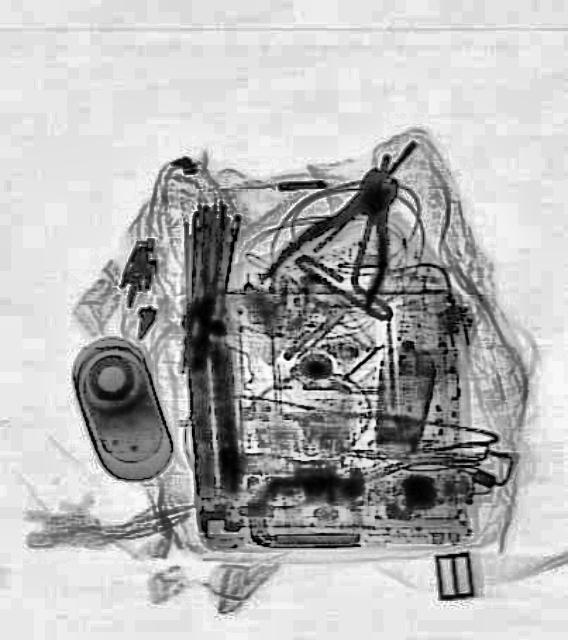Pliers: (257, 142, 435, 338)
